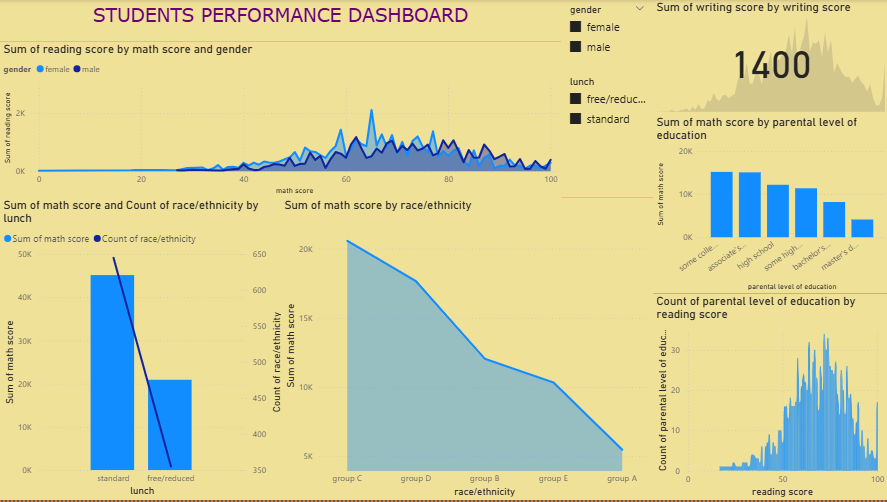

The dashboard page shown, as its layout file describes it:
{"tool":"powerbi","page":{"name":"Page 1","canvas":[1280,720],"ordinal":0},"visuals":[{"type":"textbox","box":[0,0,808,60.5],"z":0},{"type":"lineStackedColumnComboChart","fields":{"Category":["StudentsPerformance.lunch"],"Y":["Sum(StudentsPerformance.math score)"],"Y2":["CountNonNull(StudentsPerformance.race/ethnicity)"]},"box":[0,285.6,409.9,435.1],"z":1},{"type":"stackedAreaChart","fields":{"Category":["StudentsPerformance.race/ethnicity"],"Y":["Sum(StudentsPerformance.math score)"]},"box":[404.8,285.6,535.9,435.1],"z":2},{"type":"areaChart","fields":{"Category":["StudentsPerformance.math score"],"Y":["Sum(StudentsPerformance.reading score)"],"Series":["StudentsPerformance.gender"]},"box":[0,60.5,808,225.1],"z":3},{"type":"slicer","fields":{"Values":["StudentsPerformance.gender"]},"box":[808,0,132.7,104.1],"z":4},{"type":"kpi","fields":{"Indicator":["Sum(StudentsPerformance.writing score)"],"TrendLine":["StudentsPerformance.writing score"]},"box":[940.7,0,339.3,166.3],"z":5},{"type":"ribbonChart","fields":{"Category":["StudentsPerformance.reading score"],"Y":["CountNonNull(StudentsPerformance.parental level of education)"]},"box":[940.7,423.3,339.3,297.3],"z":6},{"type":"lineClusteredColumnComboChart","fields":{"Category":["StudentsPerformance.parental level of education"],"Y":["Sum(StudentsPerformance.math score)"]},"box":[940.7,166.3,339.3,257],"z":7},{"type":"slicer","fields":{"Values":["StudentsPerformance.lunch"]},"box":[808,104.1,132.7,181.4],"z":8}]}

Visuals, with their boxes in screenshot pixels (x1, y1, x2, y2), scaled from the page's 1280x720 canvas onto the 887x502 screenshot:
textbox: region(0, 0, 560, 42)
lineStackedColumnComboChart - StudentsPerformance.lunch x Sum(StudentsPerformance.math score): region(0, 199, 284, 501)
stackedAreaChart - StudentsPerformance.race/ethnicity x Sum(StudentsPerformance.math score): region(281, 199, 652, 501)
areaChart - StudentsPerformance.math score x Sum(StudentsPerformance.reading score): region(0, 42, 560, 199)
slicer - StudentsPerformance.gender: region(560, 0, 652, 73)
kpi - Sum(StudentsPerformance.writing score) x StudentsPerformance.writing score: region(652, 0, 886, 116)
ribbonChart - StudentsPerformance.reading score x CountNonNull(StudentsPerformance.parental level of education): region(652, 295, 886, 501)
lineClusteredColumnComboChart - StudentsPerformance.parental level of education x Sum(StudentsPerformance.math score): region(652, 116, 886, 295)
slicer - StudentsPerformance.lunch: region(560, 73, 652, 199)
